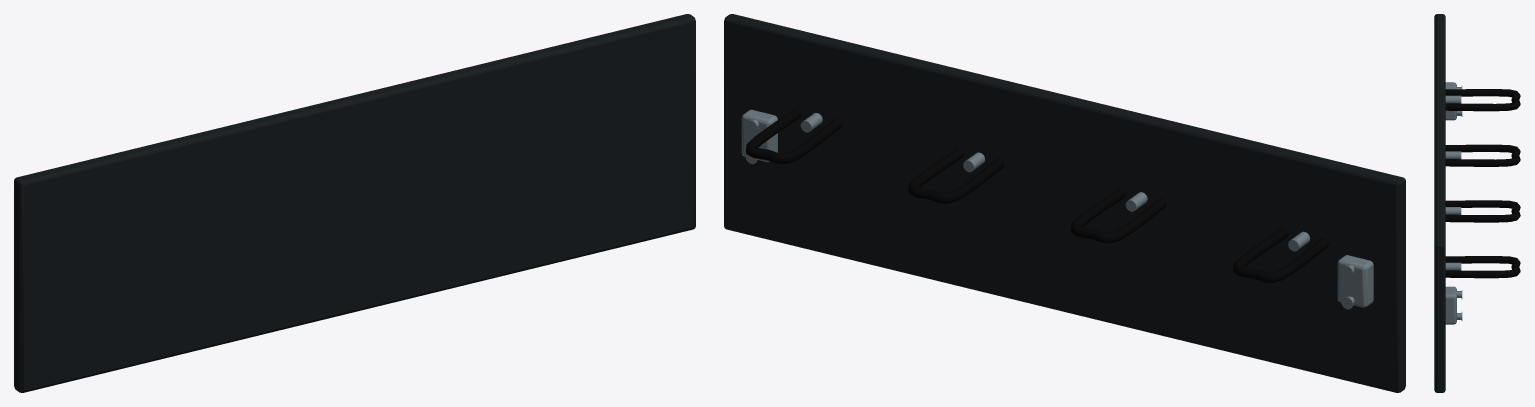
The model's file is StorageWallRack.gltf.
3 views of the same model, side by side, from view 1: azimuth 30°, elevation 25°; view 2: azimuth 150°, elevation 25°; view 3: azimuth 270°, elevation 25° (orthographic). The views are drawn at different scales.
Parts seen in each view (by area): view 1: StorageWallRack__Body; view 2: StorageWallRack__Body; view 3: StorageWallRack__Body.
Boxes of the visible parts, x1,y1,x2,y2 form: StorageWallRack__Body: (14,14,695,392); StorageWallRack__Body: (724,14,1405,392); StorageWallRack__Body: (1434,14,1520,392).
Bounding box in the file's own units: 1.4 × 0.42 × 0.2198.
1 material, 1 textured.
